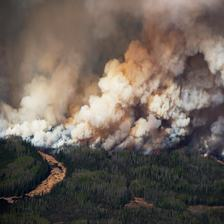fire: (30, 44, 170, 146)
